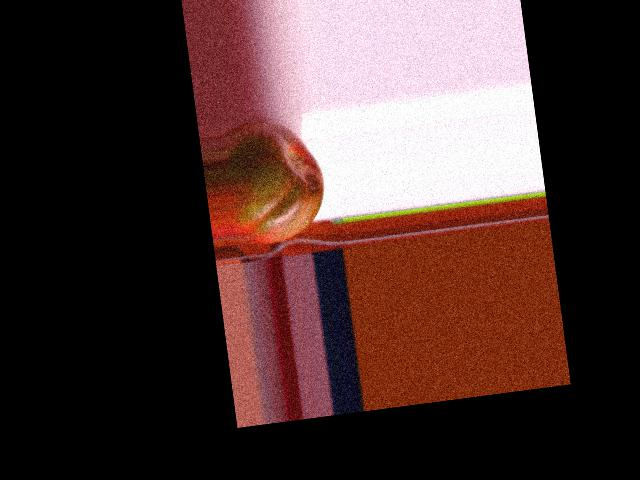tomato: (220, 115, 330, 248)
